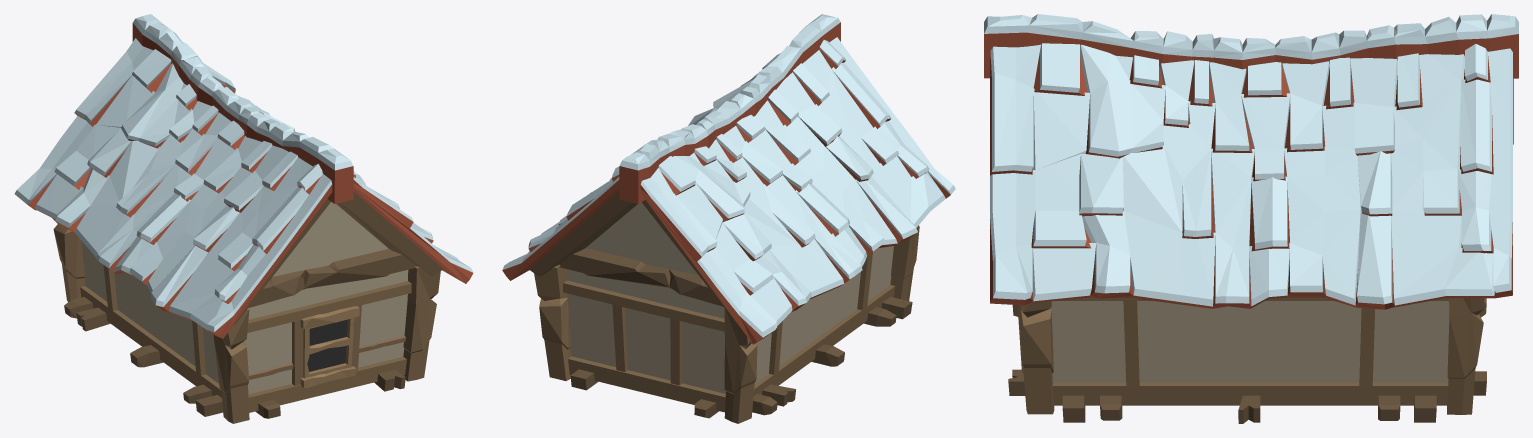
File: SM_Bld_House_RoomTop_05_Snow.gltf
3 views of the same model, side by side, from view 1: azimuth 30°, elevation 25°; view 2: azimuth 150°, elevation 25°; view 3: azimuth 270°, elevation 25° (orthographic). The views are drawn at different scales.
Visible parts, largest first — view 1: SM_Bld_House_RoomTop_05_Snow; view 2: SM_Bld_House_RoomTop_05_Snow; view 3: SM_Bld_House_RoomTop_05_Snow.
Part boxes in pixels (box(x1,y1,x2,y2)): SM_Bld_House_RoomTop_05_Snow: box(14, 14, 473, 423); SM_Bld_House_RoomTop_05_Snow: box(502, 14, 955, 423); SM_Bld_House_RoomTop_05_Snow: box(984, 14, 1518, 423).
Bounding box in the file's own units: 5.43 × 4.74 × 6.86.
1 material, 1 textured.
